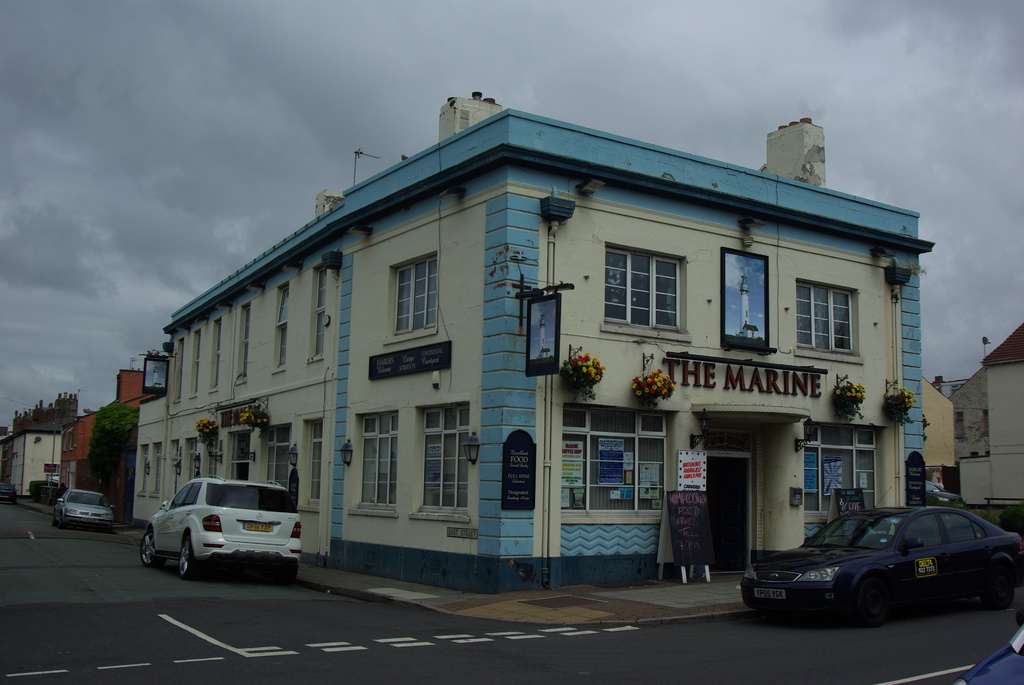Window: (567, 405, 675, 508), (807, 422, 893, 514), (412, 400, 471, 520), (378, 245, 441, 345), (795, 278, 866, 366), (617, 253, 700, 328), (349, 409, 399, 515), (135, 435, 194, 501), (302, 417, 324, 510), (271, 279, 292, 374), (306, 269, 325, 365), (234, 299, 253, 388), (270, 423, 294, 484), (188, 327, 204, 400), (209, 316, 223, 392)
